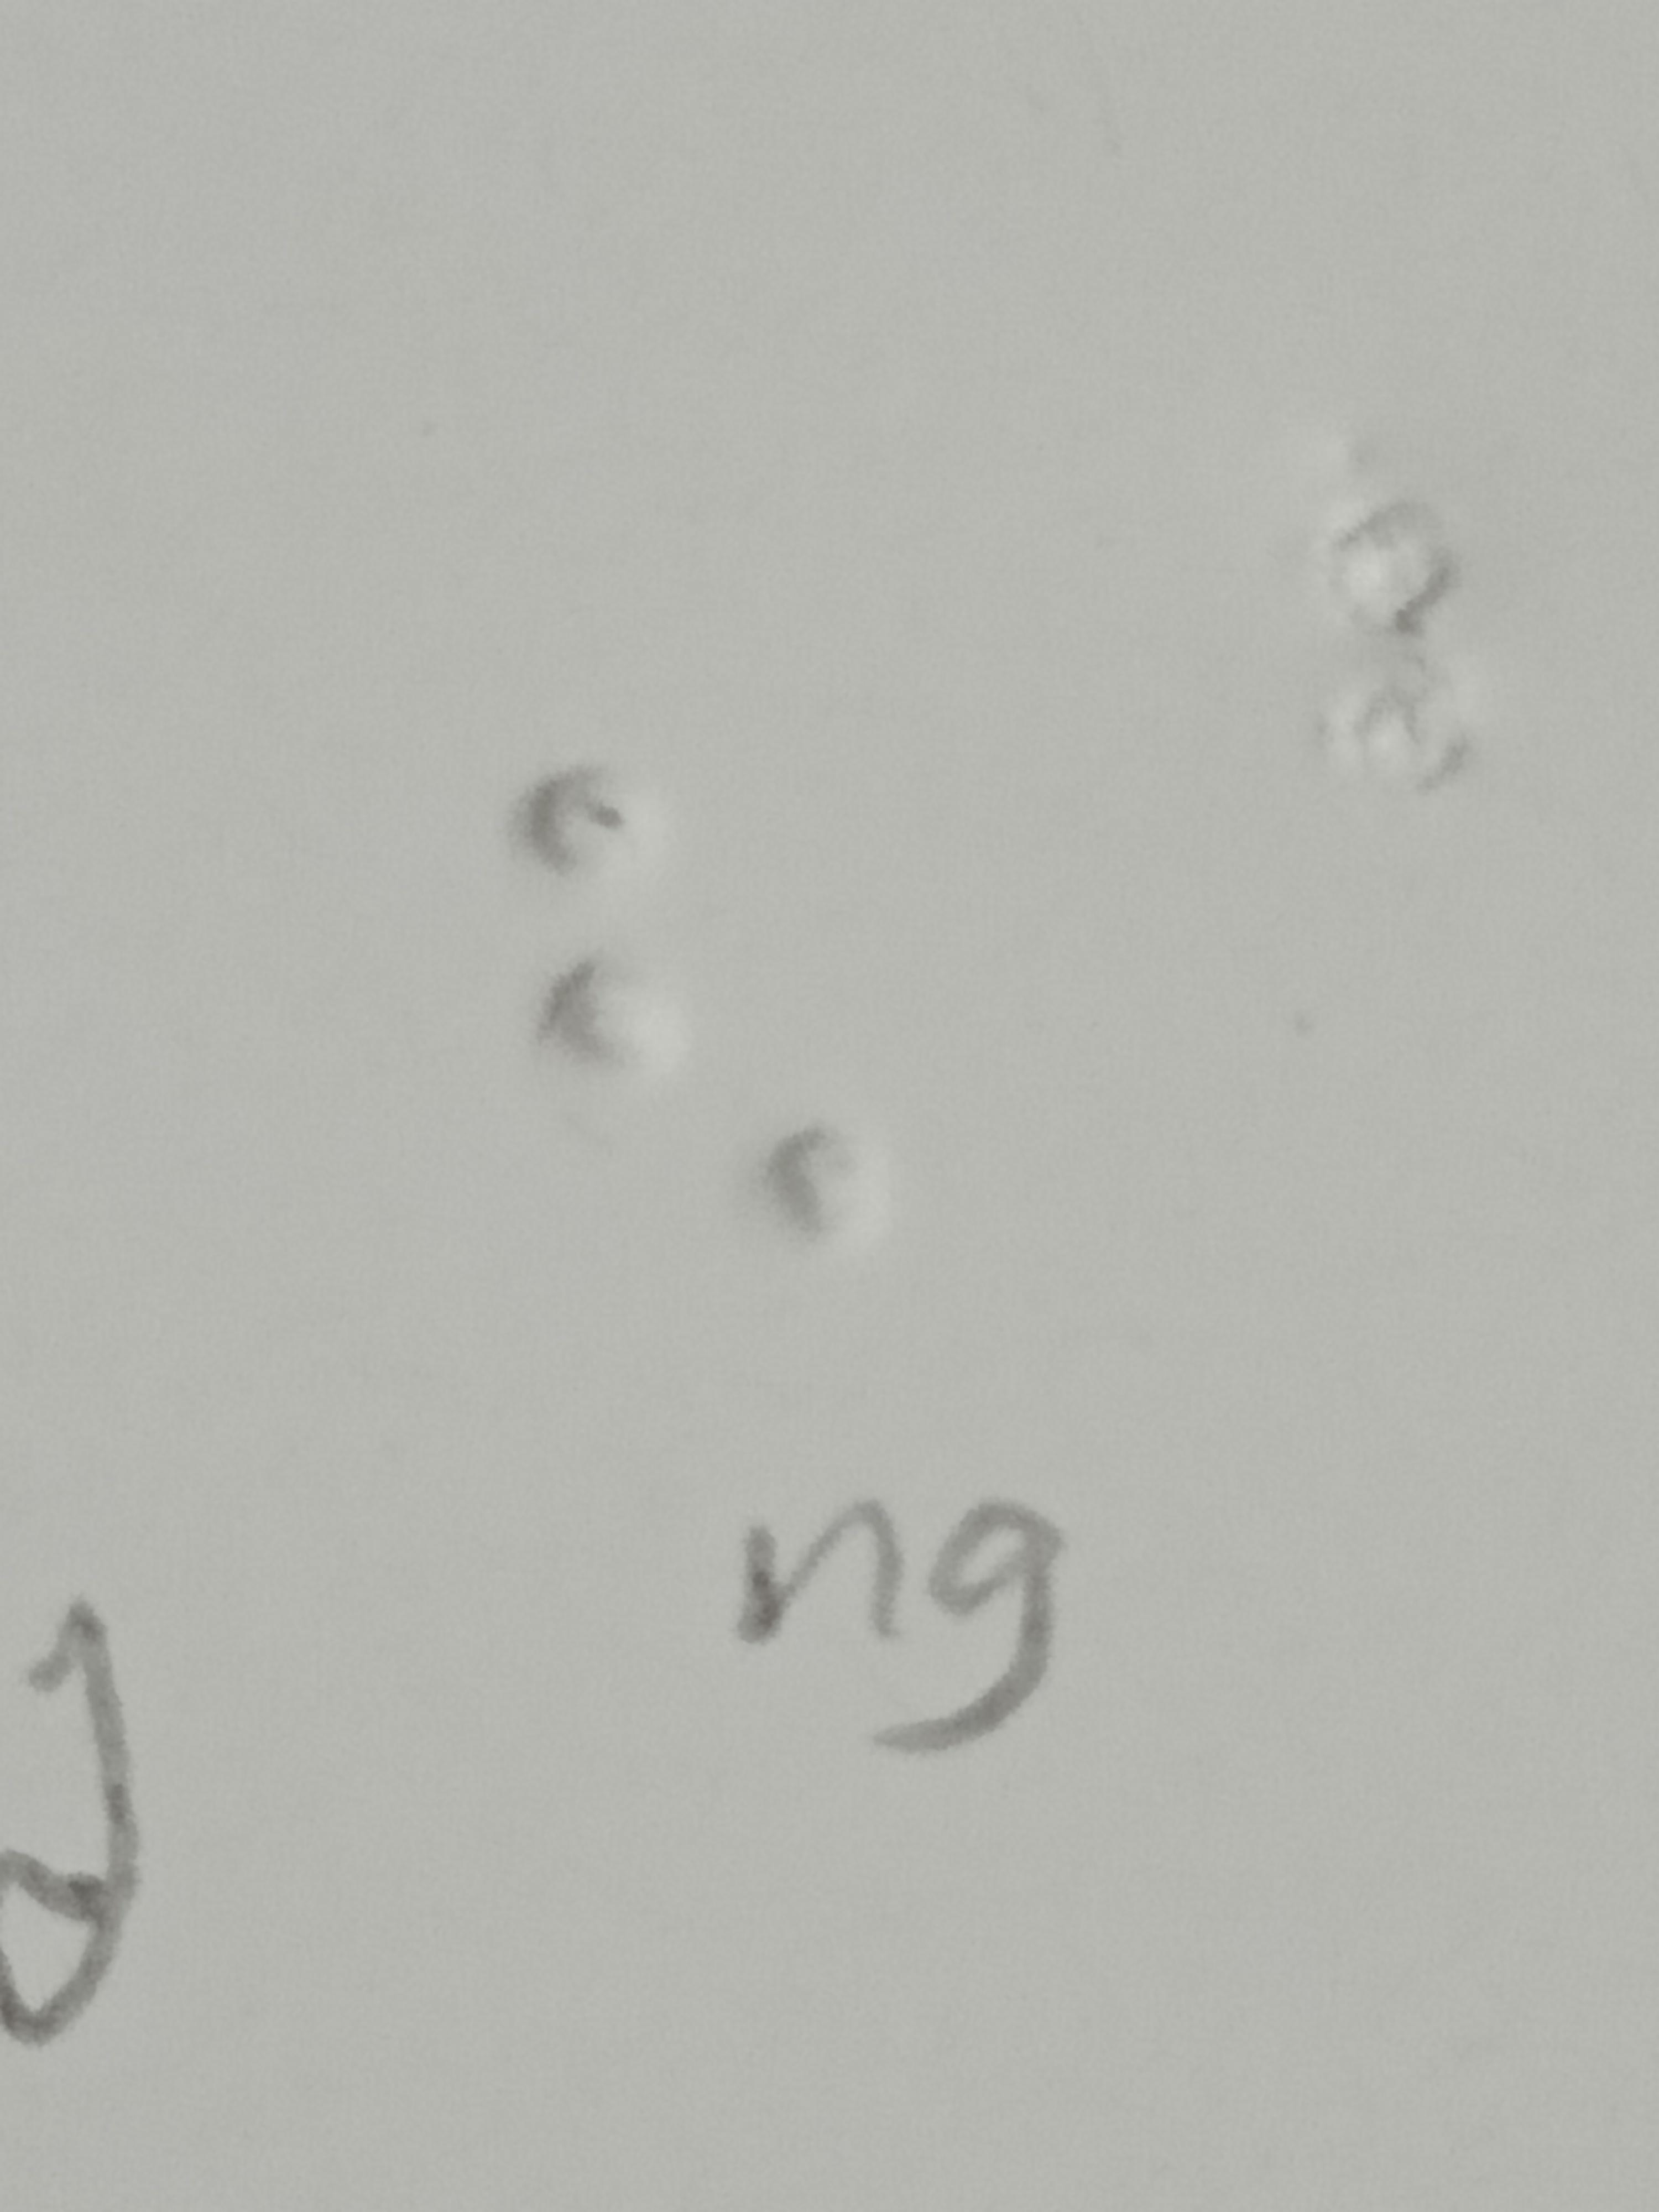one_cell_non_alphabet_ng: (516, 765, 885, 1282)
